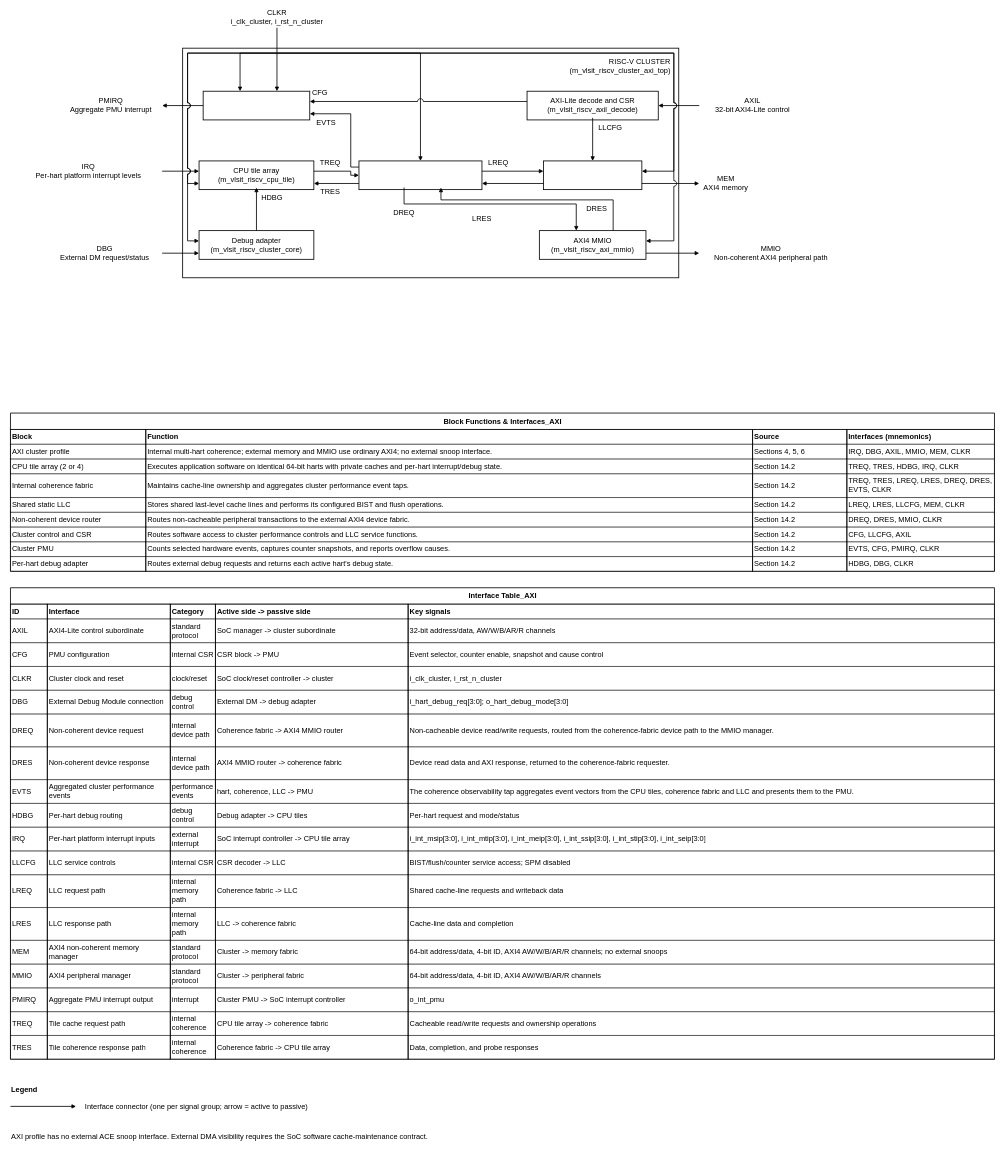
This 1002x1162 diagram has some shape labels left out. Each missing label, with the box of its shape:
Cluster PMU (m_vlsit_riscv_pmu): (203, 91, 310, 120)
Coherence fabric (m_vlsit_riscv_coh_fabric): (358, 160, 482, 190)
Shared LLC (m_vlsit_axi_llc): (543, 160, 642, 190)
